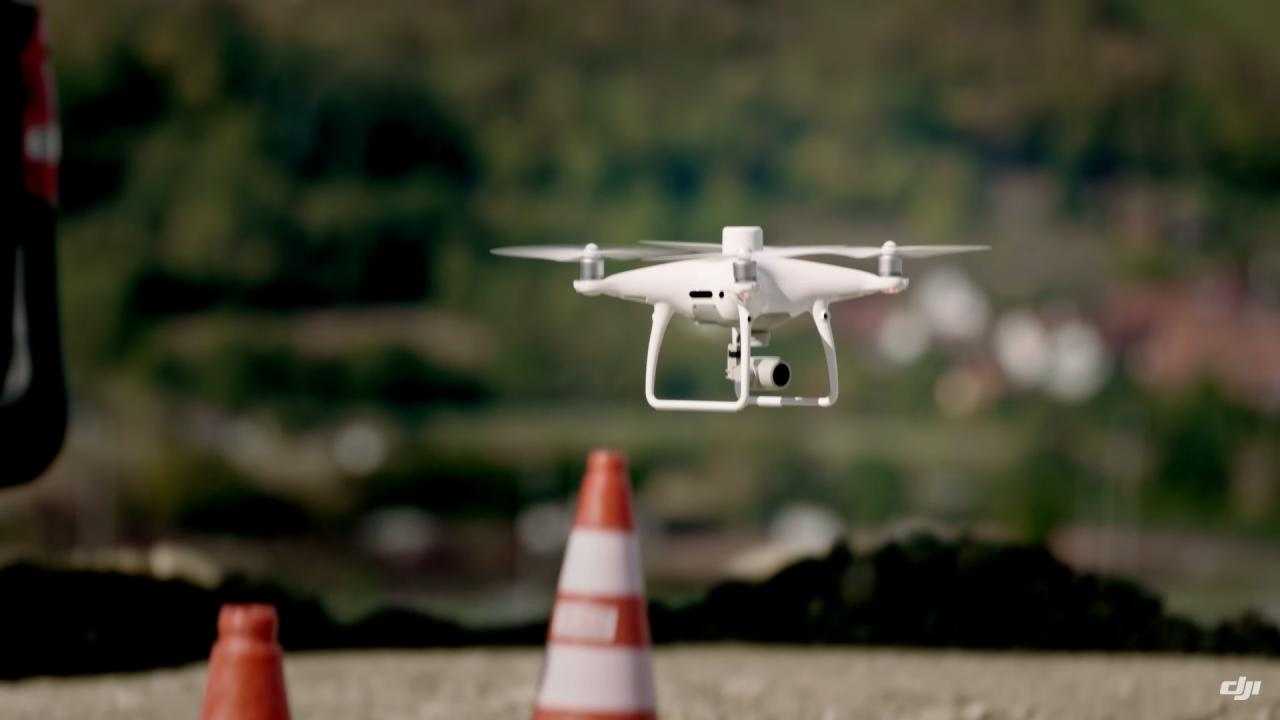Drone: (468, 204, 1015, 431)
